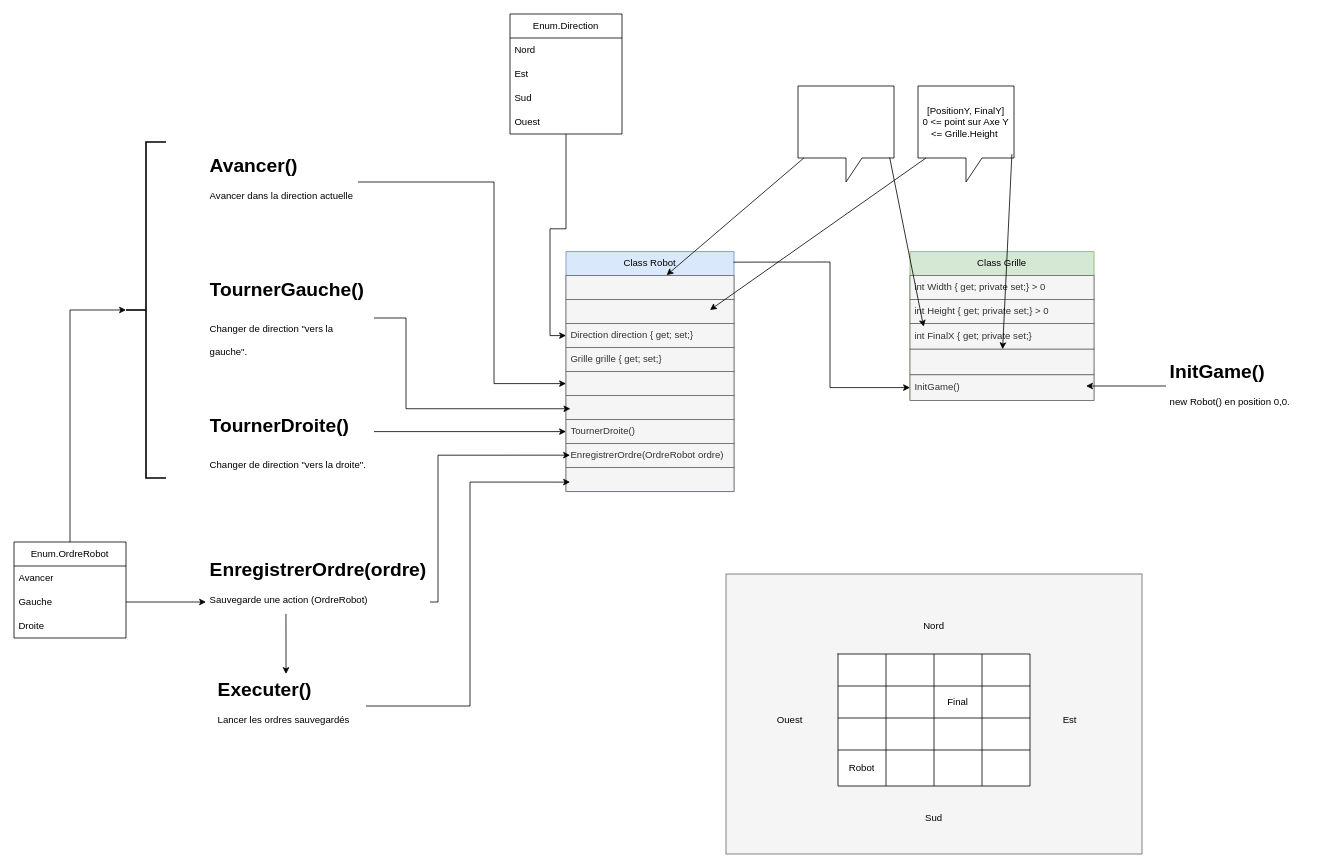
Image size: 1332x868. Some labels were removed from this diagram. Here are the shapes that lost their labels. From the top down, the centre of each, then its label:
At (x=845, y=133): "[PositionX, FinalX] 0 <= point sur Axe X <= Grille.Width".
At (x=649, y=287): "int PositionX { get; private set;}".
At (x=649, y=311): "int PositionY { get; private set;}".
At (x=1001, y=361): "int FinalY { get; private set;}".
At (x=649, y=383): "Avancer()".
At (x=649, y=407): "TournerGauche()".
At (x=649, y=479): "Executer()".
